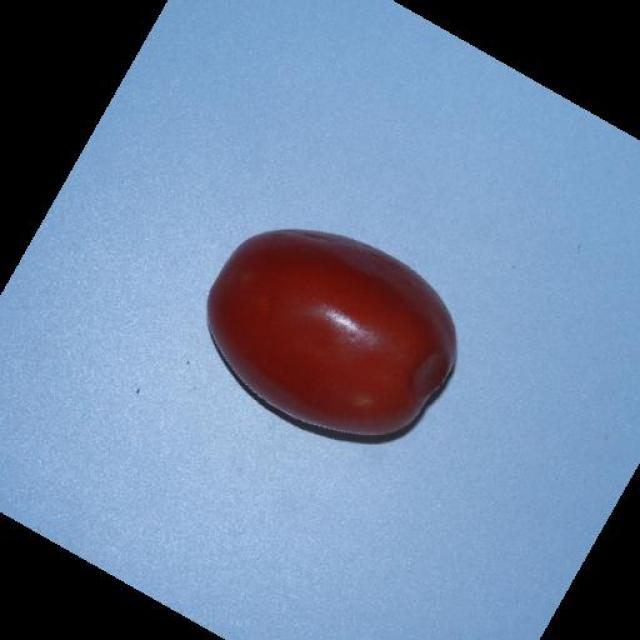Stale_tomato: (184, 219, 541, 501)
